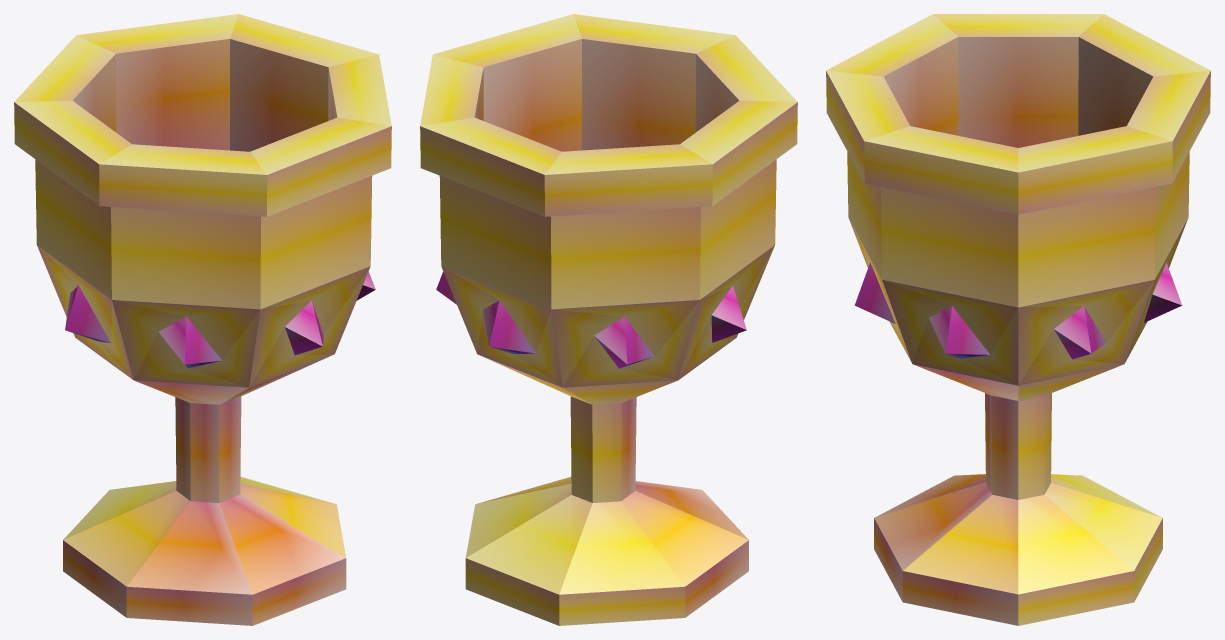
The model's file is cup.fbx.
The picture shows the model from 3 angles, left to right: view 1: azimuth 30°, elevation 25°; view 2: azimuth 150°, elevation 25°; view 3: azimuth 270°, elevation 25°; orthographic projection.
Visible parts, largest first — view 1: cup; view 2: cup; view 3: cup.
Boxes of the visible parts, bbox=[...] form: cup: bbox=[14, 14, 391, 625]; cup: bbox=[420, 14, 797, 625]; cup: bbox=[826, 14, 1210, 625].
Bounding box in the file's own units: 65.38 × 91.18 × 67.06.
